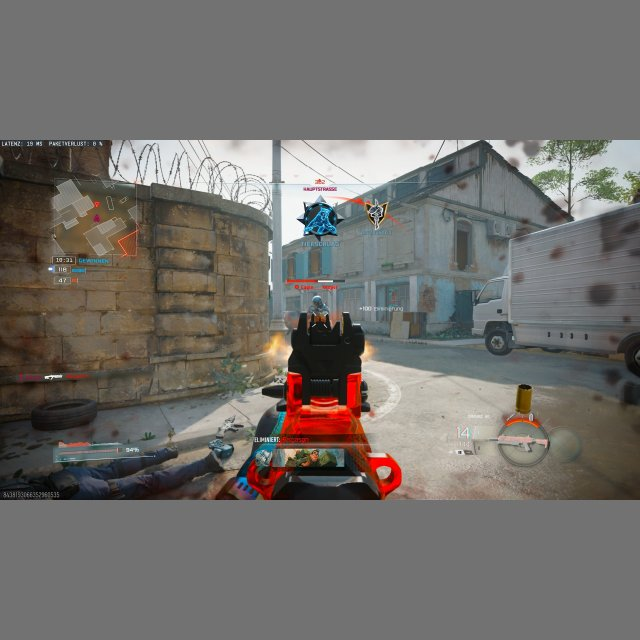head: (312, 295, 321, 305)
player: (300, 196, 341, 238), (308, 295, 330, 326)
